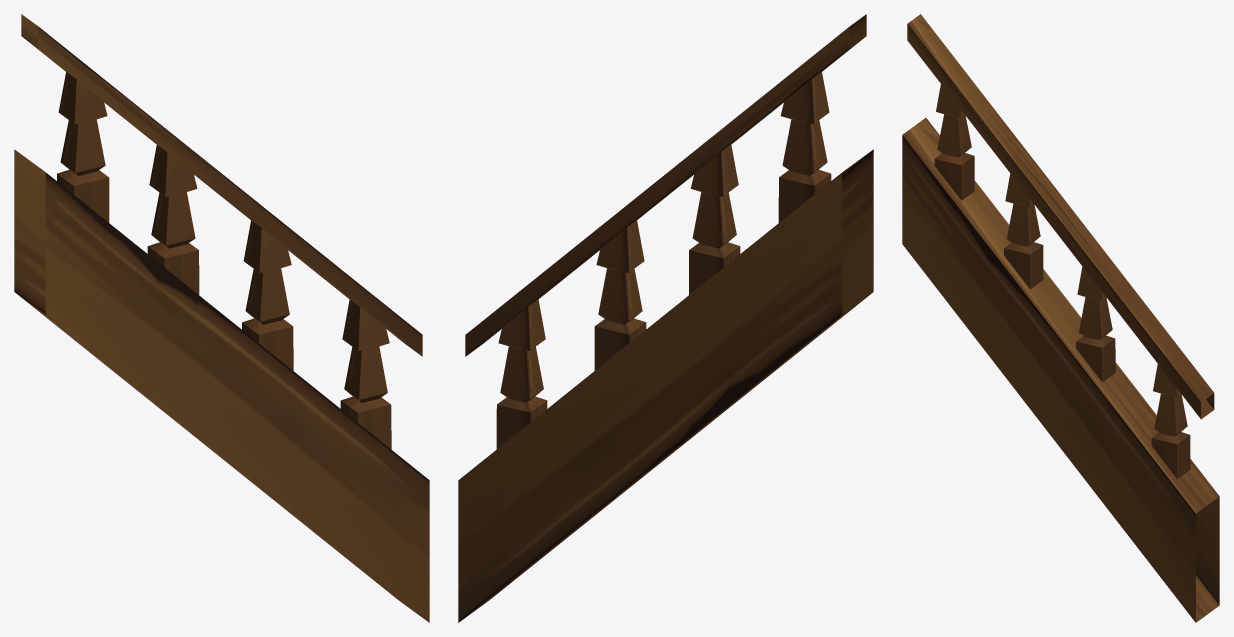
File: MOD_Stairs_03_Railing_straight_01_01.fbx
3 renders of one model, left to right at view 1: azimuth 30°, elevation 25°; view 2: azimuth 150°, elevation 25°; view 3: azimuth 330°, elevation 25°, orthographic. The views are drawn at different scales.
Visible parts, largest first — view 1: MOD_Stairs_03_Railing_straight_01_01; view 2: MOD_Stairs_03_Railing_straight_01_01; view 3: MOD_Stairs_03_Railing_straight_01_01.
Boxes of the visible parts, bbox=[...] form: MOD_Stairs_03_Railing_straight_01_01: bbox=[14, 14, 429, 622]; MOD_Stairs_03_Railing_straight_01_01: bbox=[458, 14, 873, 622]; MOD_Stairs_03_Railing_straight_01_01: bbox=[902, 14, 1219, 622].
Size of the model in its own units: 200 by 341 by 28.11.
